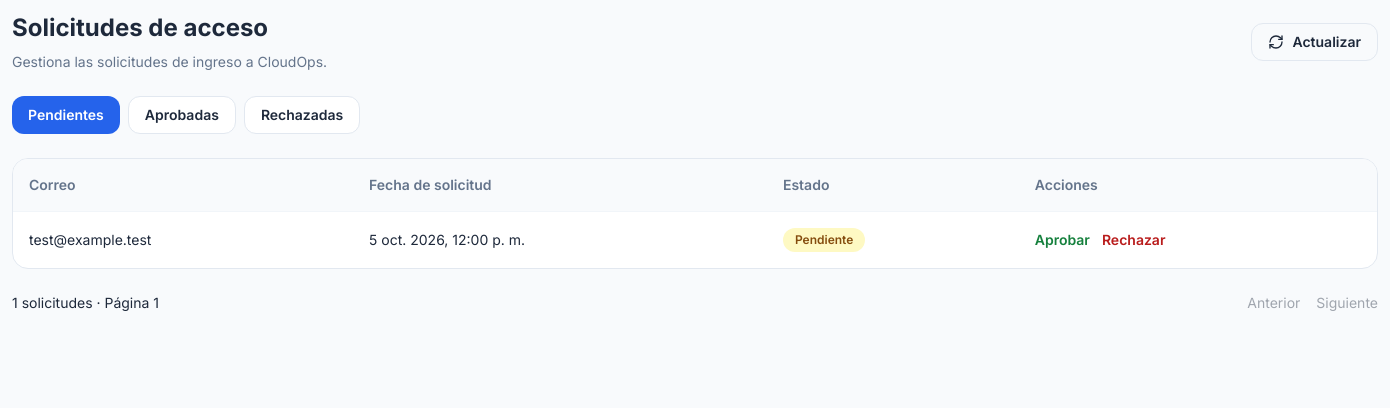
Scenario: Admin request actions › performs Rechazar using the requested contract
Step 1. Click the button "Rechazar" → click(1134, 240), box [1102, 230, 1165, 250]
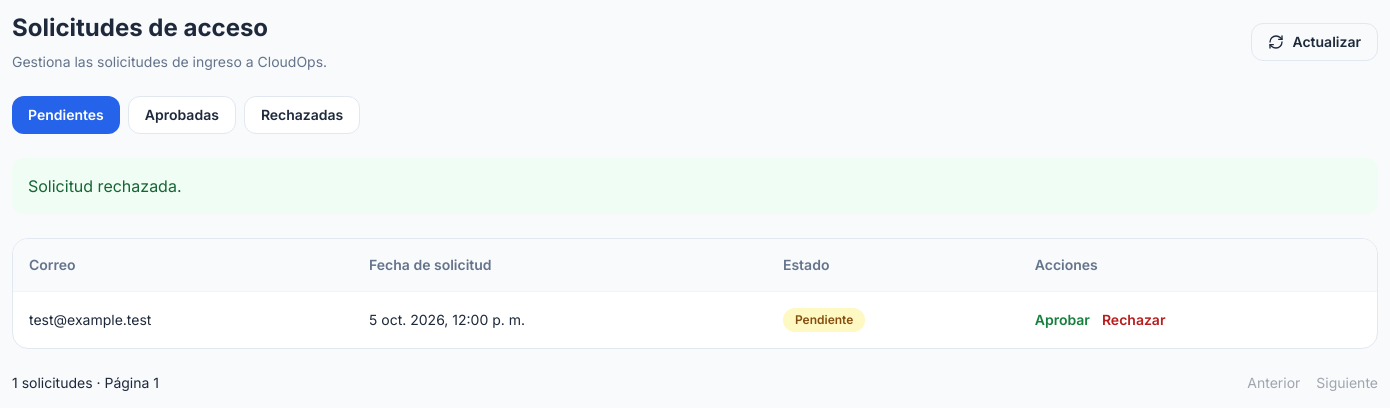
Expected: the message reads "Solicitud rechazada.", [28, 176, 182, 196]
